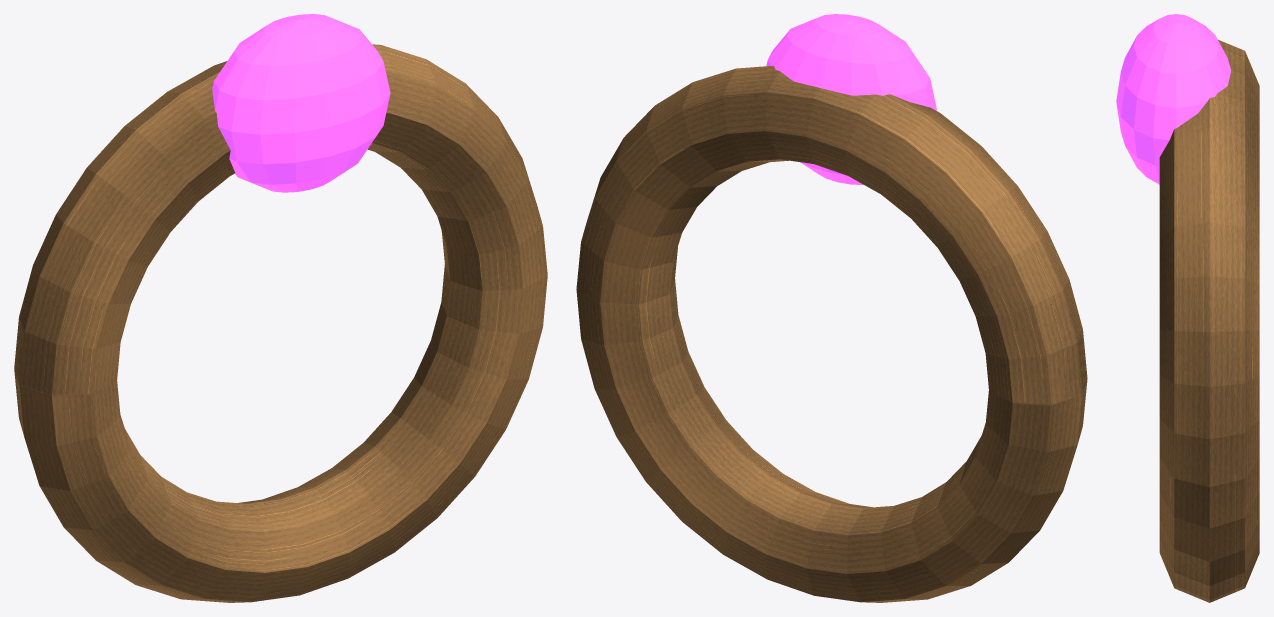
The model's file is ring.glb.
3 renders of one model, left to right at view 1: azimuth 30°, elevation 25°; view 2: azimuth 150°, elevation 25°; view 3: azimuth 270°, elevation 25°, orthographic. The views are drawn at different scales.
Parts seen in each view (by area): view 1: ring; view 2: ring; view 3: ring.
Boxes of the visible parts, x1=… form: ring: x1=14, y1=14, x2=547, y2=602; ring: x1=576, y1=14, x2=1087, y2=602; ring: x1=1116, y1=14, x2=1259, y2=602.
Bounding box in the file's own units: 0.85 × 0.915 × 0.215.
2 materials, 1 textured.
